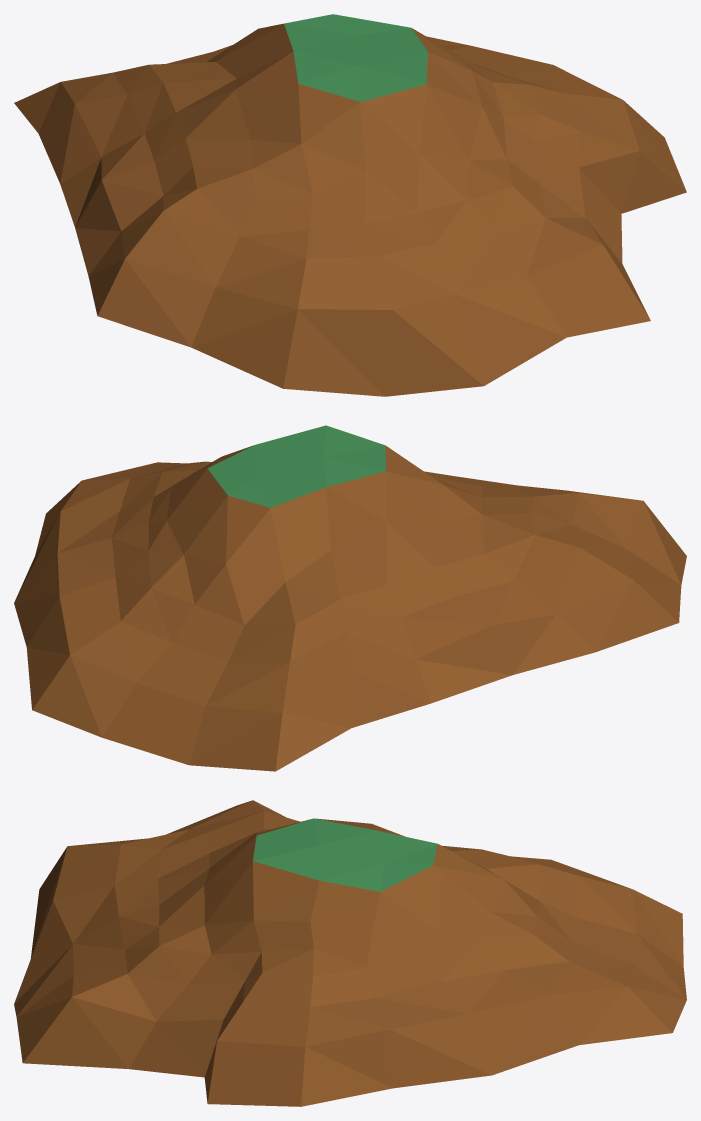
Rendered from forest_relief_1.fbx.
The picture shows the model from 3 angles, top to bottom: view 1: azimuth 30°, elevation 25°; view 2: azimuth 150°, elevation 25°; view 3: azimuth 270°, elevation 25°; orthographic projection. The views are drawn at different scales.
Parts seen in each view (by area): view 1: Icosphere.046; view 2: Icosphere.046; view 3: Icosphere.046.
Part boxes in pixels (box(x1,y1,x2,y2)): Icosphere.046: box(14, 14, 686, 396); Icosphere.046: box(14, 425, 686, 771); Icosphere.046: box(14, 800, 686, 1106).
Size of the model in its own units: 1167 by 348 by 1202.
